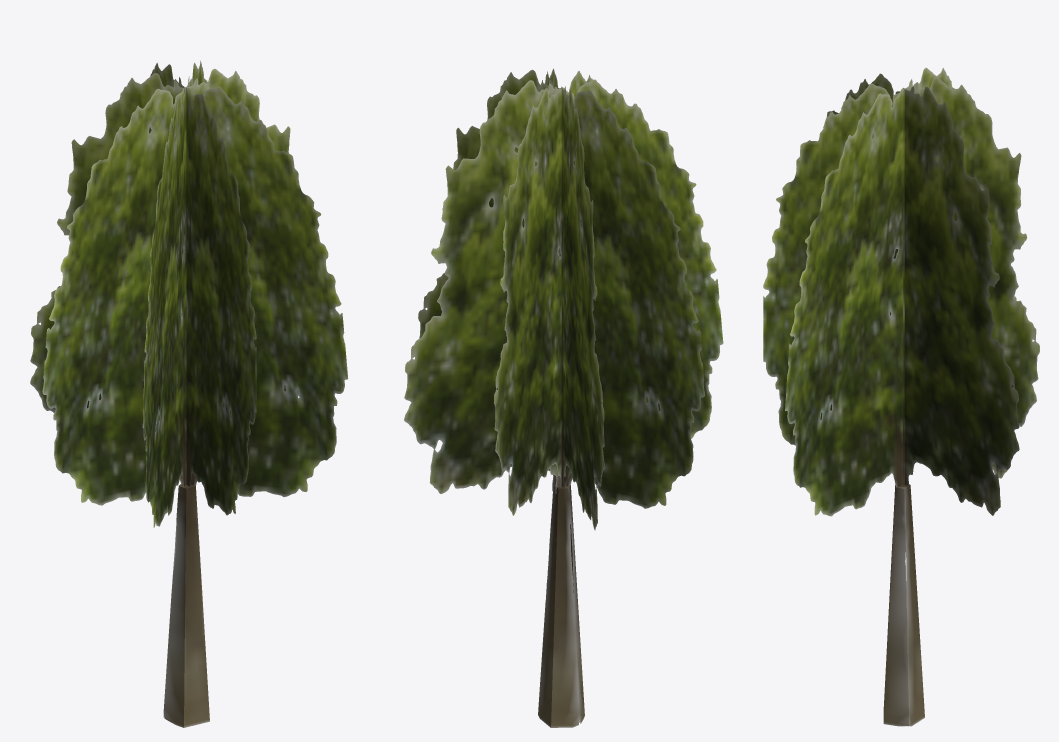
Rendered from tree2.fbx.
3 views of the same model, side by side, from view 1: azimuth 30°, elevation 25°; view 2: azimuth 150°, elevation 25°; view 3: azimuth 270°, elevation 25° (orthographic).
Parts seen in each view (by area): view 1: Tree.001; view 2: Tree.001; view 3: Tree.001.
Part boxes in pixels (left/top/right/bottom): Tree.001: left=30, top=60, right=348, bottom=727; Tree.001: left=404, top=68, right=723, bottom=727; Tree.001: left=763, top=67, right=1039, bottom=726.
Size of the model in its own units: 291 by 579 by 229.
Materials: 1 (1 with a texture image).
